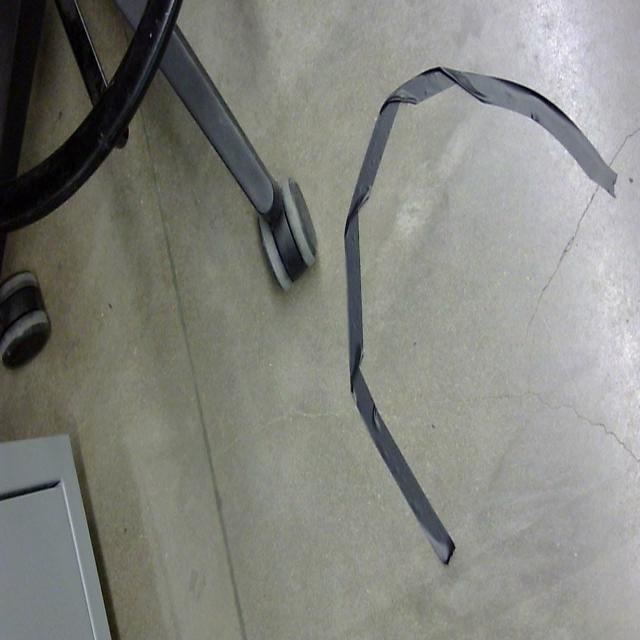tape: (343, 55, 619, 567)
